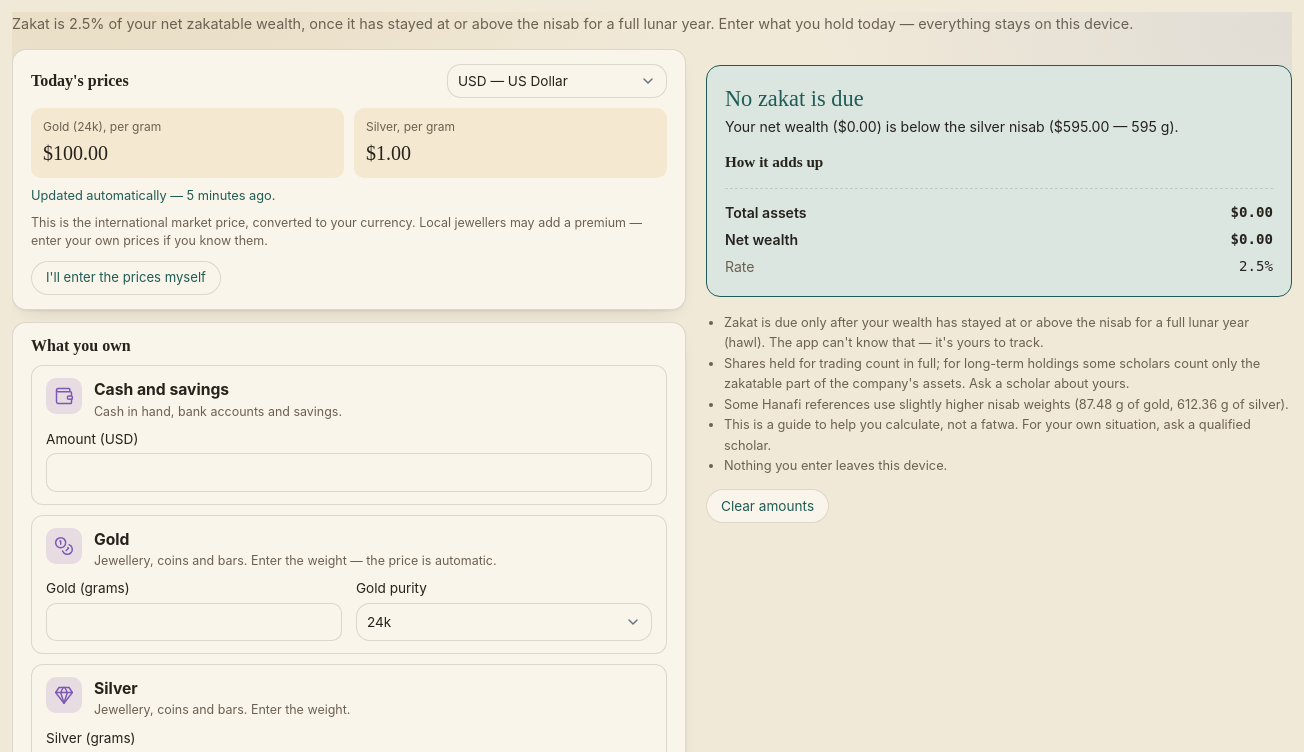
Test: ZakatCalculator — the five kinds of wealth › prices gold from the weight and the karat, and says what it's worth
Type "100" into the field labelled "Gold (grams)" at (194, 622), box [46,603,342,641]
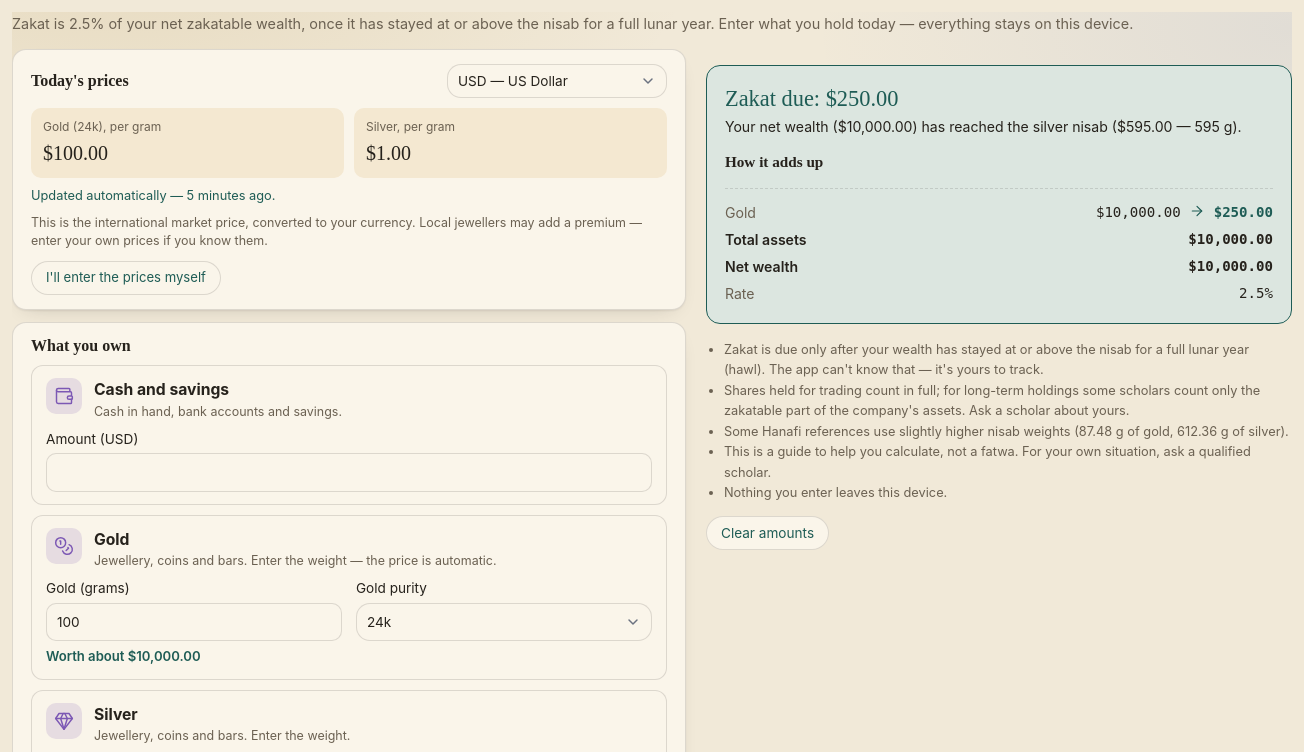
Select "18k" in the dropdown labelled "Gold purity" at (504, 622), box [356,603,652,641]
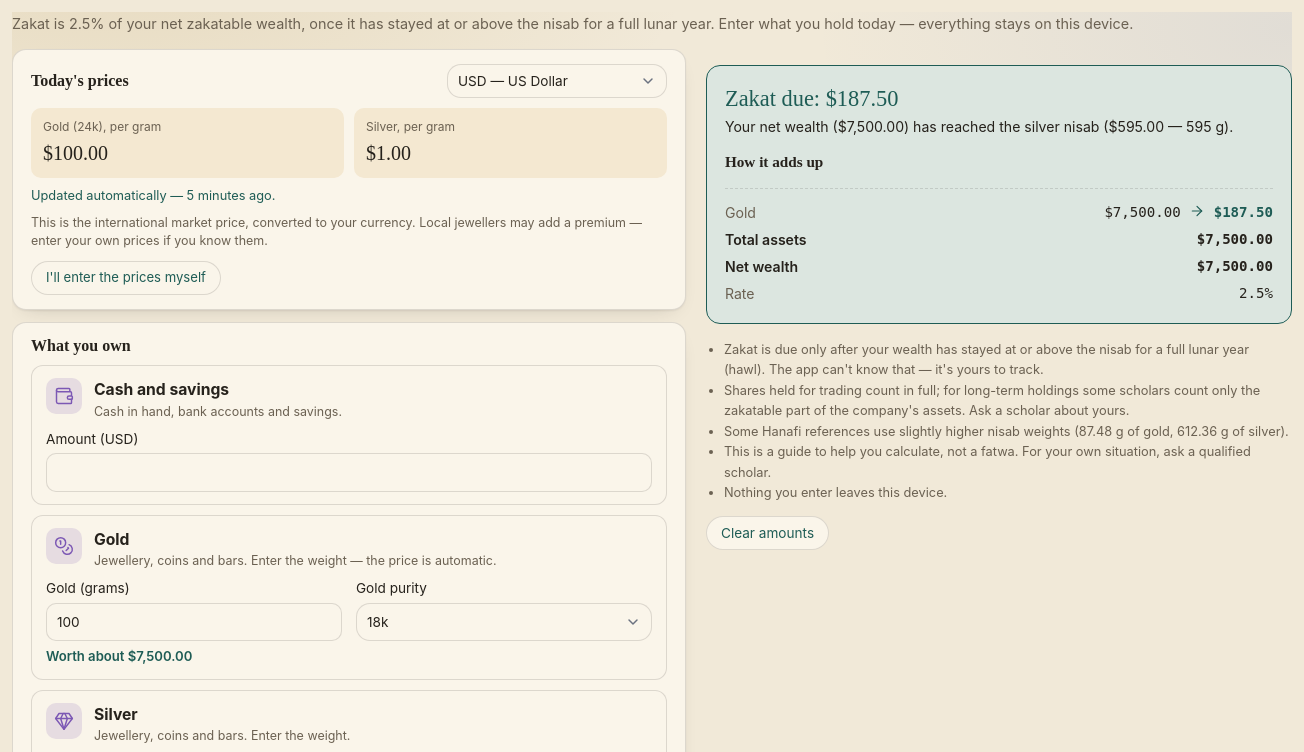
Now the text "Worth about $7,500.00" is shown, box [46,648,192,664]
Now the element with class "zakat-result" shows "Zakat due: $187.50", box [725,86,898,111]
